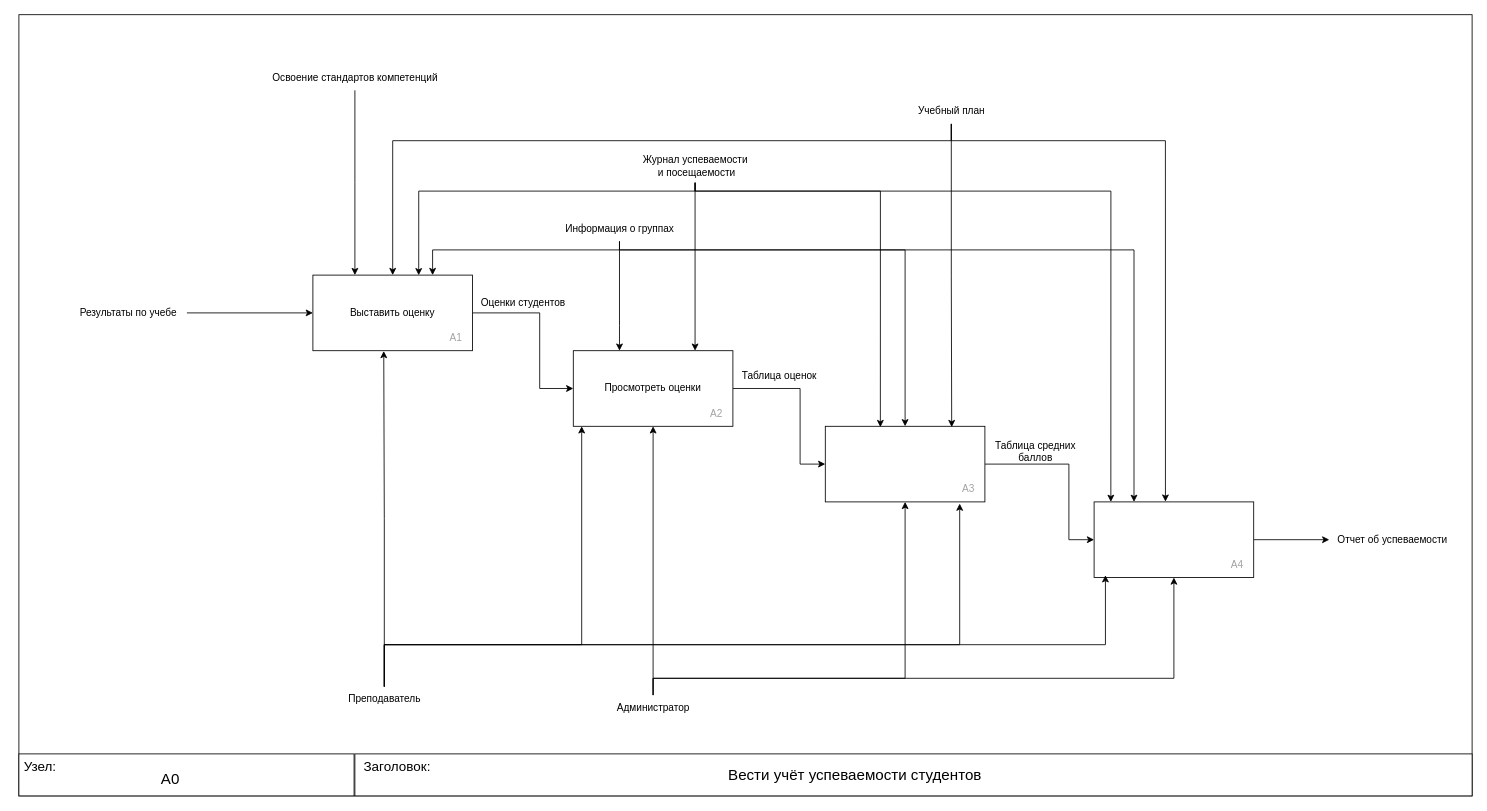
Image size: 1487x811. Some labels were removed from this diagram. Here are the shapes that lost their labels. From the top down, the box of each, then its label:
(824, 425, 985, 502): Просмотреть средний балл
(1093, 501, 1254, 578): Сформировать отчет
